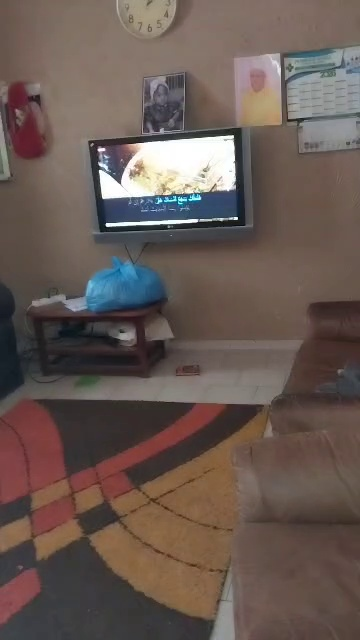television: (77, 124, 270, 252)
